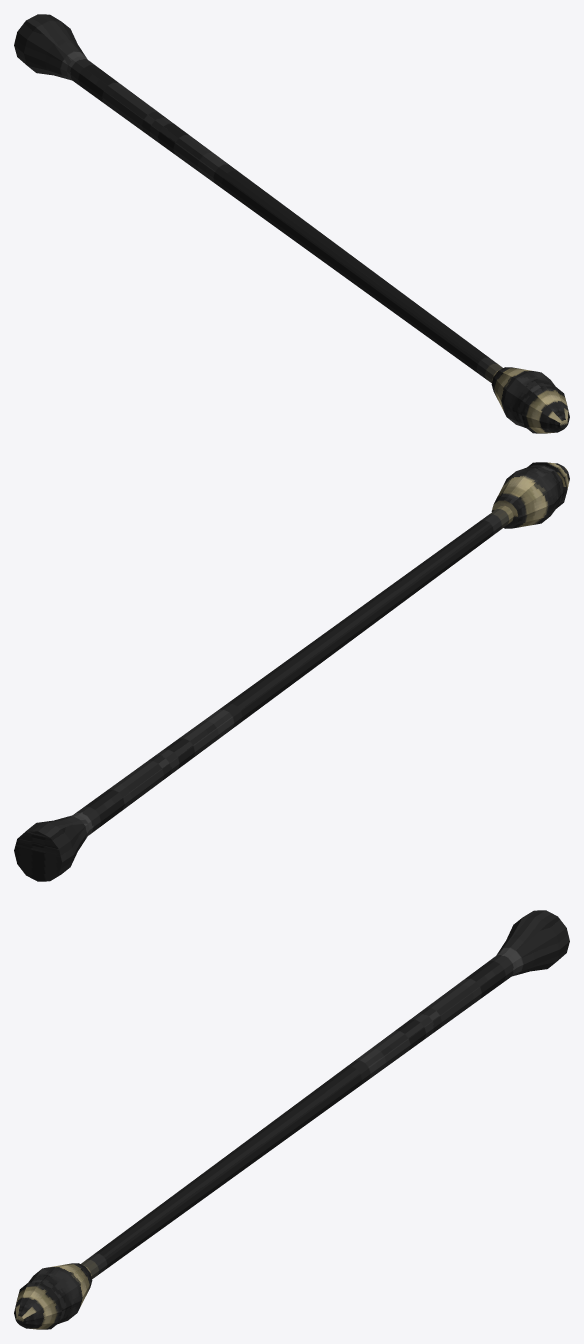
File: pz_street_pole_03.obj
The picture shows the model from 3 angles, top to bottom: view 1: azimuth 30°, elevation 25°; view 2: azimuth 150°, elevation 25°; view 3: azimuth 330°, elevation 25°; orthographic projection.
Visible parts, largest first — view 1: pz_street_pole_03_|_tapered_native_street_pole, pz_street_pole_03_|_curved_native_lantern_glass, pz_street_pole_03_|_lantern_cap; view 2: pz_street_pole_03_|_tapered_native_street_pole, pz_street_pole_03_|_curved_native_lantern_glass; view 3: pz_street_pole_03_|_tapered_native_street_pole, pz_street_pole_03_|_curved_native_lantern_glass, pz_street_pole_03_|_lantern_cap.
Boxes of the visible parts, x1,y1,x2,y2 form: pz_street_pole_03_|_tapered_native_street_pole: (14,14,502,383); pz_street_pole_03_|_curved_native_lantern_glass: (491,367,555,428); pz_street_pole_03_|_lantern_cap: (521,386,569,433); pz_street_pole_03_|_tapered_native_street_pole: (14,505,513,881); pz_street_pole_03_|_curved_native_lantern_glass: (491,464,564,528); pz_street_pole_03_|_tapered_native_street_pole: (81,910,569,1279); pz_street_pole_03_|_curved_native_lantern_glass: (28,1263,92,1324); pz_street_pole_03_|_lantern_cap: (14,1282,62,1329).
Size of the model in its own units: 0.15 by 0.15 by 2.69.
Materials: 2 (2 with a texture image).
